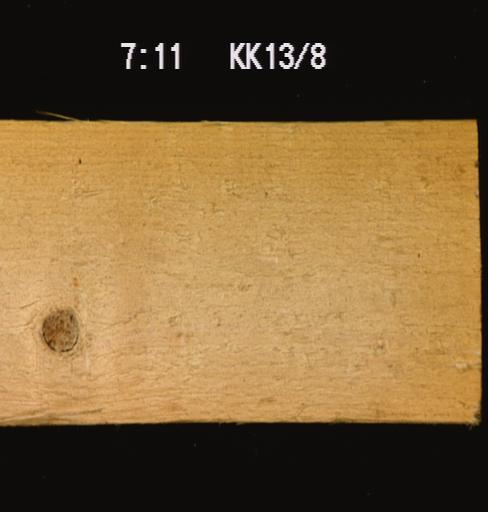dry_knot: (38, 304, 81, 353)
